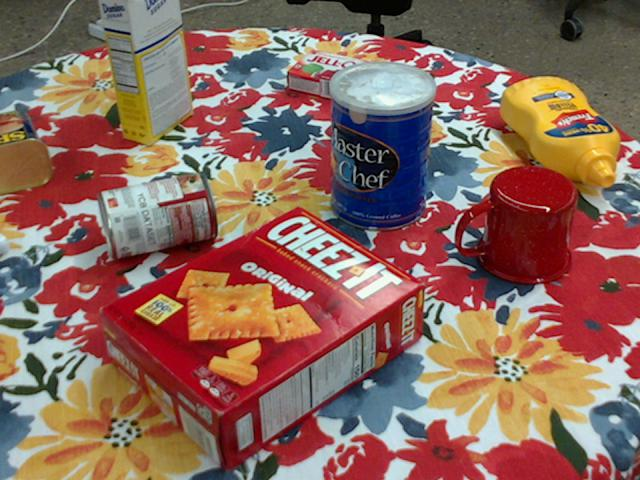cracker_box: (97, 208, 422, 473)
gelatin_box: (284, 52, 370, 104)
large_marker: (0, 233, 8, 253)
master_chef_can: (329, 61, 436, 232)
mug: (457, 166, 577, 285)
mustard_bottle: (499, 76, 618, 186)
potted_meat_can: (0, 110, 51, 193)
sugar_box: (100, 0, 192, 143)
tomato_soup_can: (95, 171, 216, 259)
tuna_fish_can: (339, 95, 413, 154)
